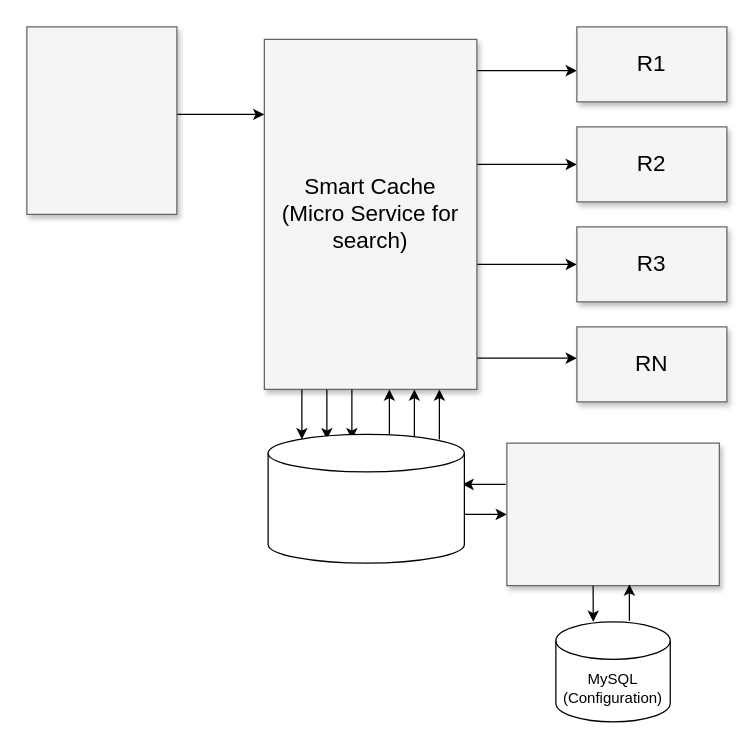
Image size: 756x744. Some labels were removed from this diagram. Here are the shapes that lost their labels. From the top down, the centre of each, then its label:
[102,122]: API Gateway
[365,498]: Cassendra
[614,515]: Visionary Cache (Batch job)
